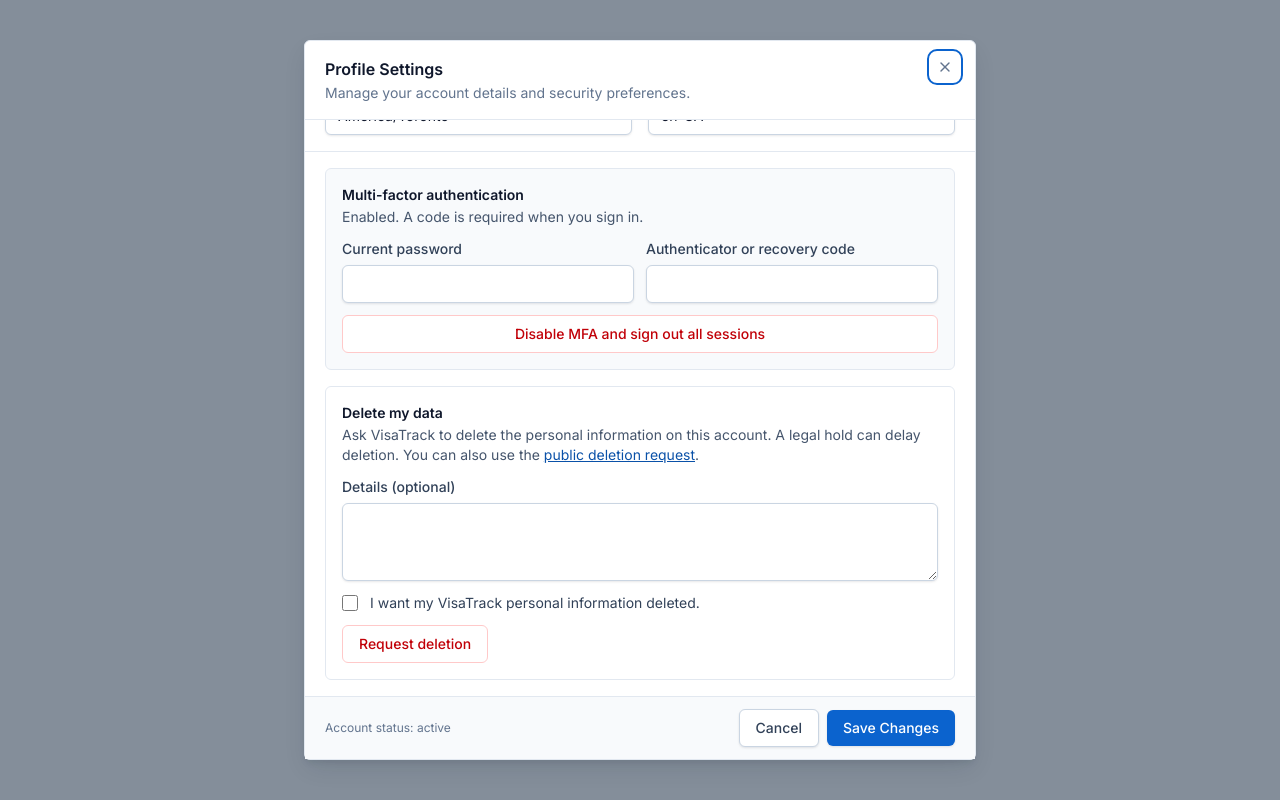
ProfileSettingsDialog data deletion › CT-PROFILE-09: submits a deletion request and reports its status
This screenshot has width=1280, height=800.
(page scrolled)
In the text box labelled "Details (optional)": (640,542) top-left (342, 503), bottom-right (938, 581), type "  Closing my account  "
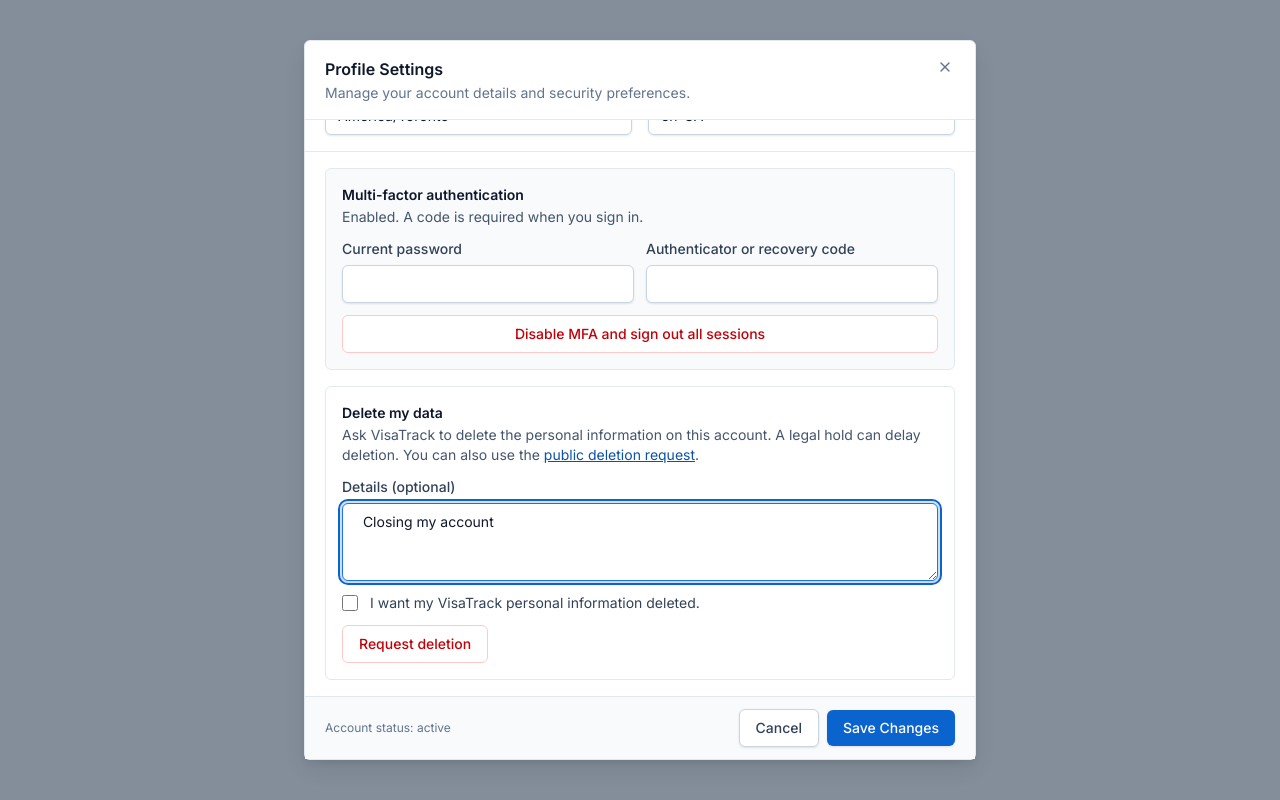
Click the checkbox labelled "I want my VisaTrack personal information deleted.": (350,603) top-left (342, 595), bottom-right (358, 611)
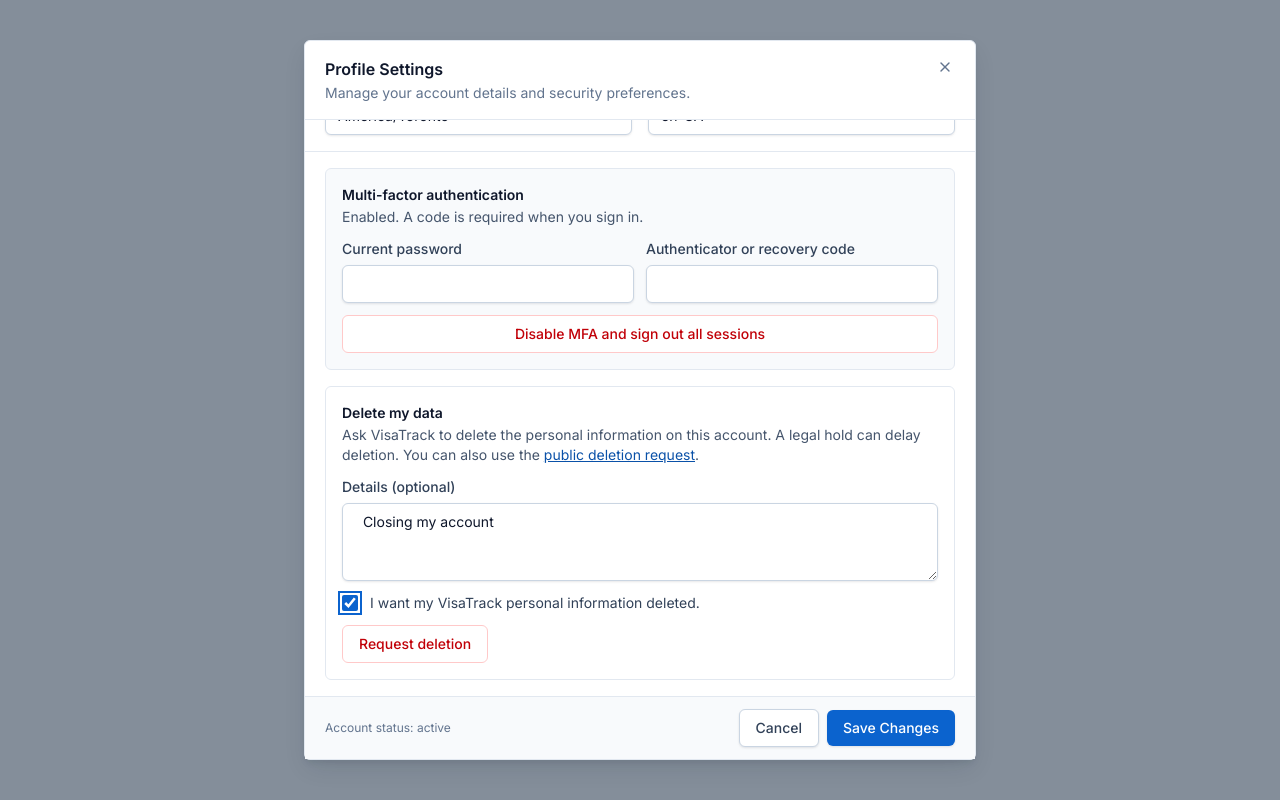
Click the button "Request deletion": (415,644) top-left (342, 625), bottom-right (488, 663)
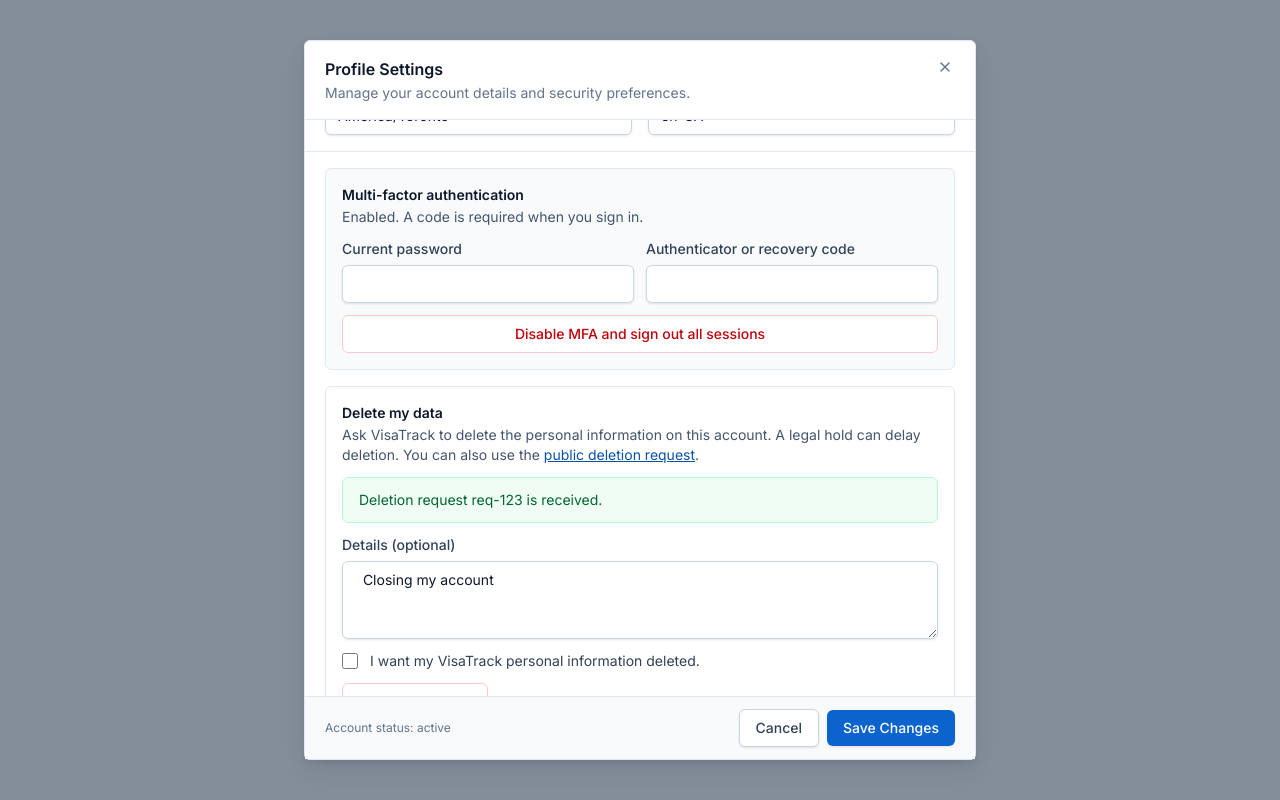
Now the checkbox labelled "I want my VisaTrack personal information deleted." is not checked, box top-left (342, 653), bottom-right (358, 669)
Now the message reads "Deletion request req-123 is received.", box top-left (359, 491), bottom-right (602, 508)
